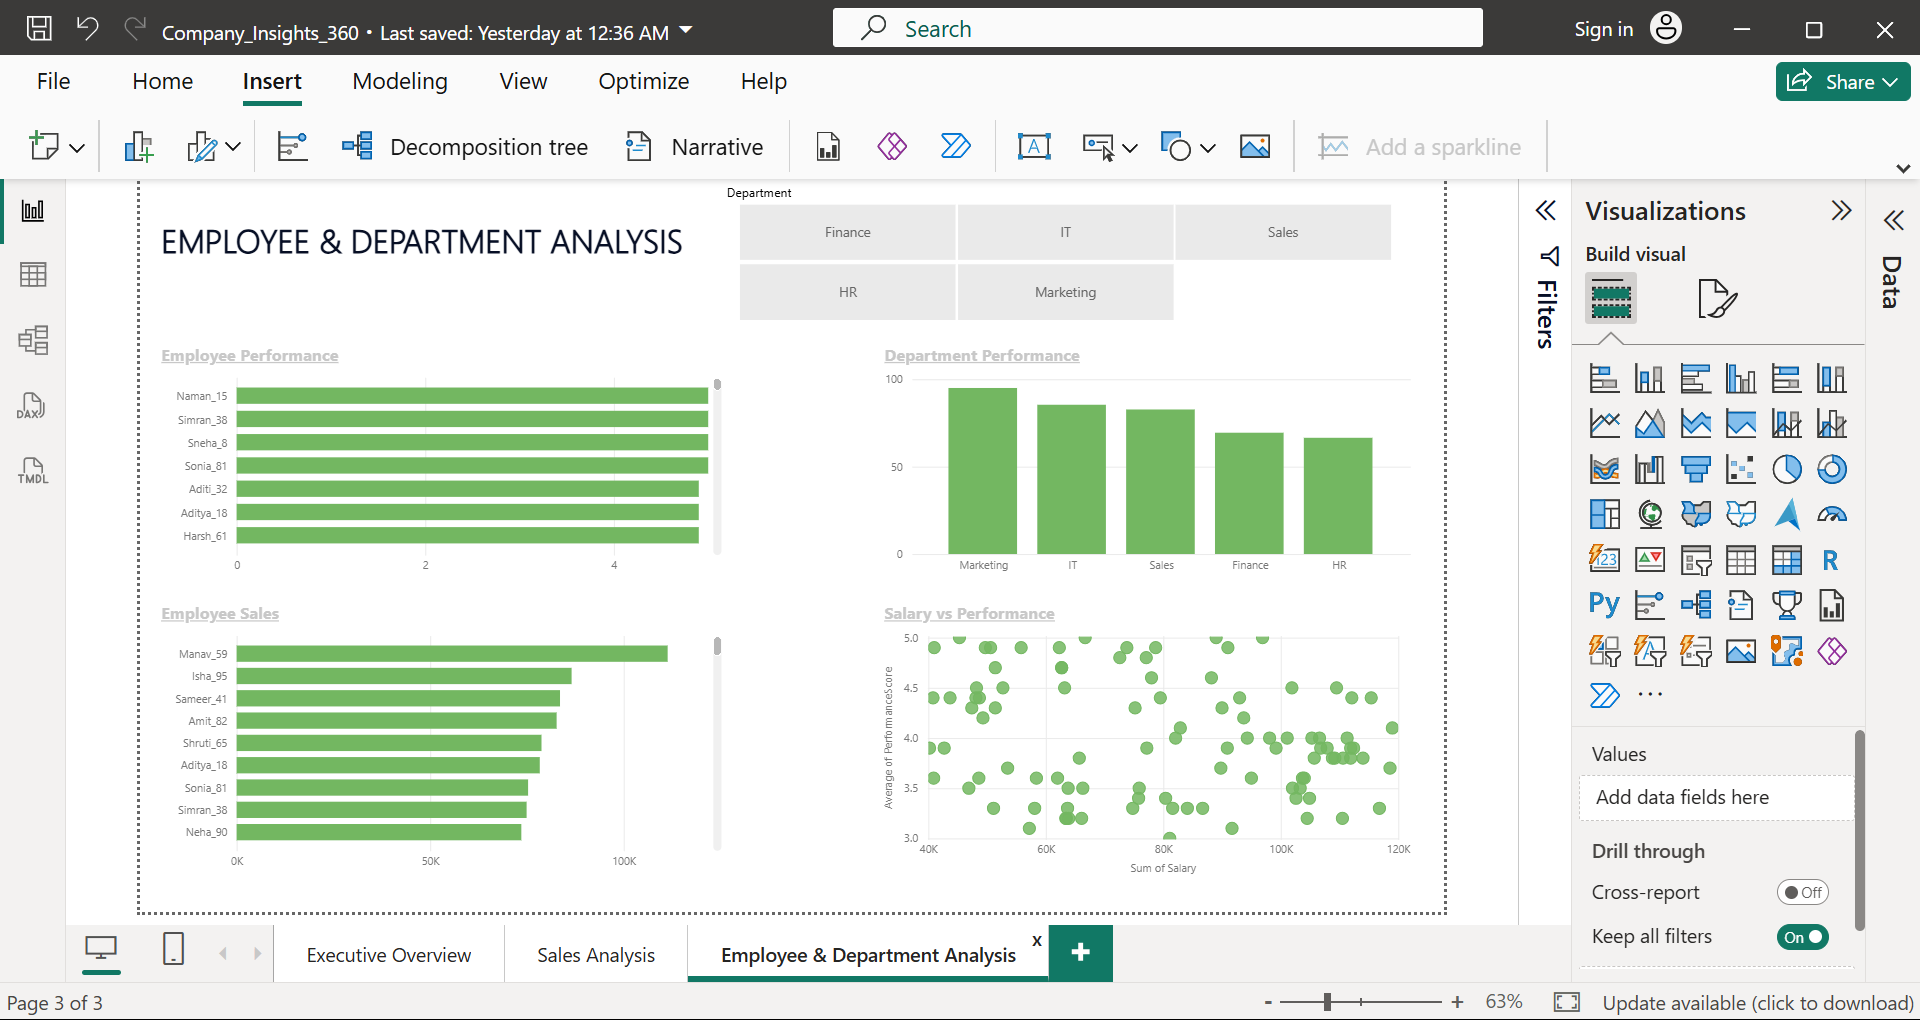

The dashboard page shown, as its layout file describes it:
{"tool":"powerbi","page":{"name":"Employee & Department Analysis","canvas":[1280,720],"ordinal":2},"visuals":[{"type":"clusteredBarChart","title":"Employee Performance","fields":{"Category":["employees.Name"],"Y":["Sum(employees.PerformanceScore)"]},"box":[44.9,161.5,531.2,235.1],"z":0},{"type":"clusteredBarChart","title":"Employee Sales","fields":{"Category":["employees.Name"],"Y":["sales.Total Sales"]},"box":[44.9,414.5,531.2,272.8],"z":1},{"type":"clusteredColumnChart","title":"Department Performance","fields":{"Category":["employees.Department"],"Y":["Sum(employees.PerformanceScore)"]},"box":[726.8,161.5,479.1,235.1],"z":2},{"type":"scatterChart","title":"Salary vs Performance","fields":{"X":["Sum(employees.Salary)"],"Y":["Avg(employees.PerformanceScore)"],"Category":["employees.Name"]},"box":[726.8,414.5,479.1,272.8],"z":3},{"type":"slicer","fields":{"Values":["employees.Department"]},"box":[563.5,0,689.1,145.4],"z":4},{"type":"textbox","box":[0,0,547.3,57.4],"z":5}]}

Visuals, with their boxes on the page's 1280x720 design canvas (x1, y1, x2, y2). These are canvas units, not pixel positions in the 1920x1020 screenshot, which may show the page scaled, cropped or inside an application window:
"Employee Performance" clusteredBarChart: pyautogui.locateOnScreen(45, 162, 576, 397)
"Employee Sales" clusteredBarChart: pyautogui.locateOnScreen(45, 414, 576, 687)
"Department Performance" clusteredColumnChart: pyautogui.locateOnScreen(727, 162, 1206, 397)
"Salary vs Performance" scatterChart: pyautogui.locateOnScreen(727, 414, 1206, 687)
slicer - employees.Department: pyautogui.locateOnScreen(564, 0, 1253, 145)
textbox: pyautogui.locateOnScreen(0, 0, 547, 57)
